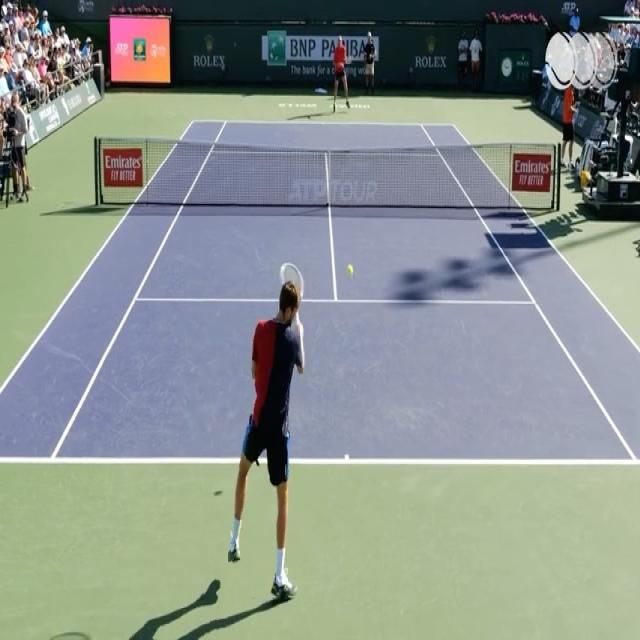forehand-stroke: (228, 263, 310, 601)
